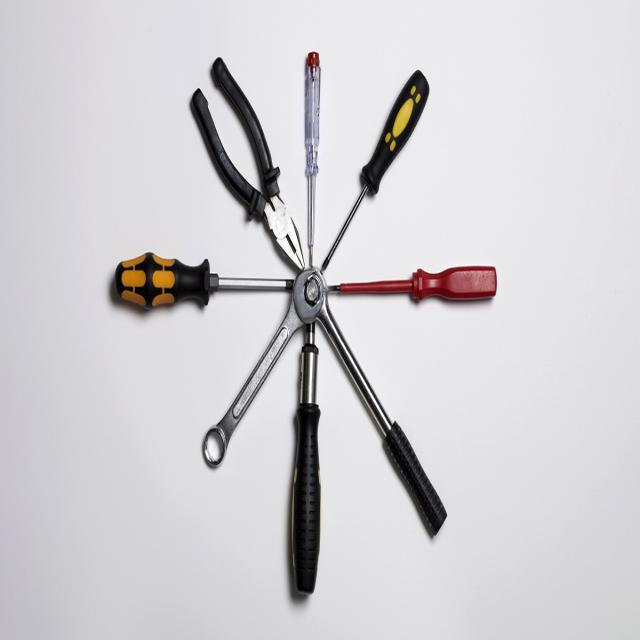screwdriver: (317, 70, 434, 282), (321, 250, 502, 316)
